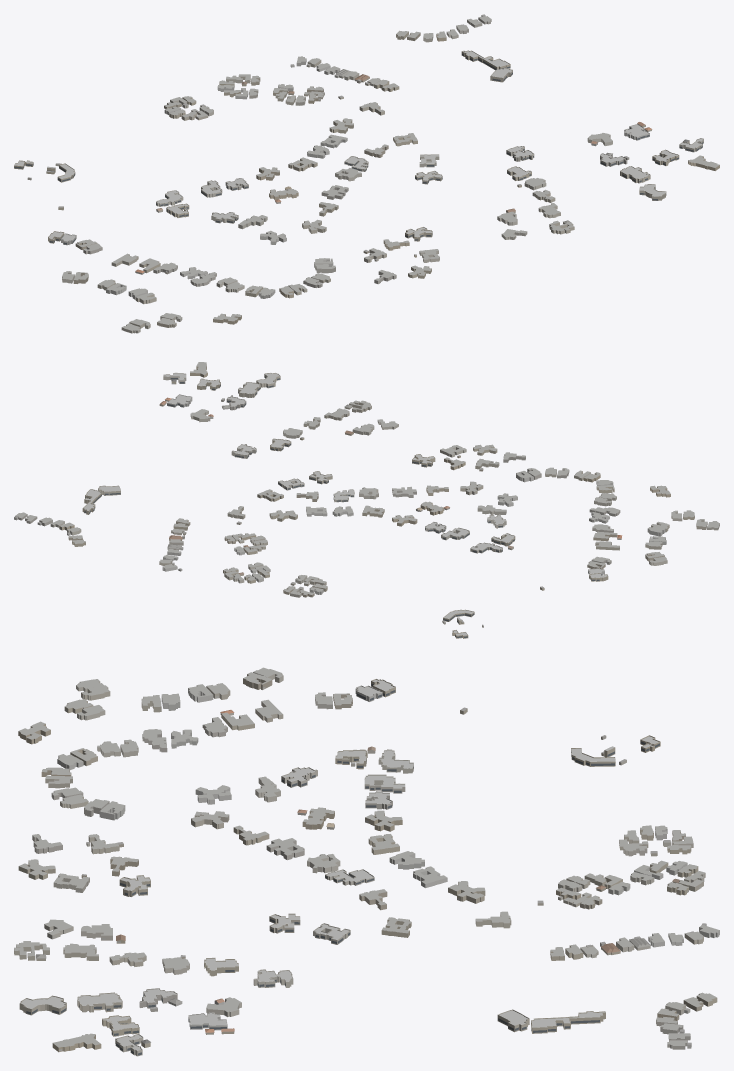
The model's file is buildings_r7_c1.glb.
3 views of the same model, one above another, from view 1: azimuth 30°, elevation 25°; view 2: azimuth 150°, elevation 25°; view 3: azimuth 270°, elevation 25° (orthographic). The views are drawn at different scales.
Parts seen in each view (by area): view 1: buildings_r7_c1; view 2: buildings_r7_c1; view 3: buildings_r7_c1.
Part boxes in pixels (x1=…): buildings_r7_c1: x1=14, y1=14, x2=719, y2=333; buildings_r7_c1: x1=14, y1=362, x2=719, y2=638; buildings_r7_c1: x1=14, y1=667, x2=719, y2=1056.
Bounding box in the file's own units: 1148 × 66.88 × 813.
